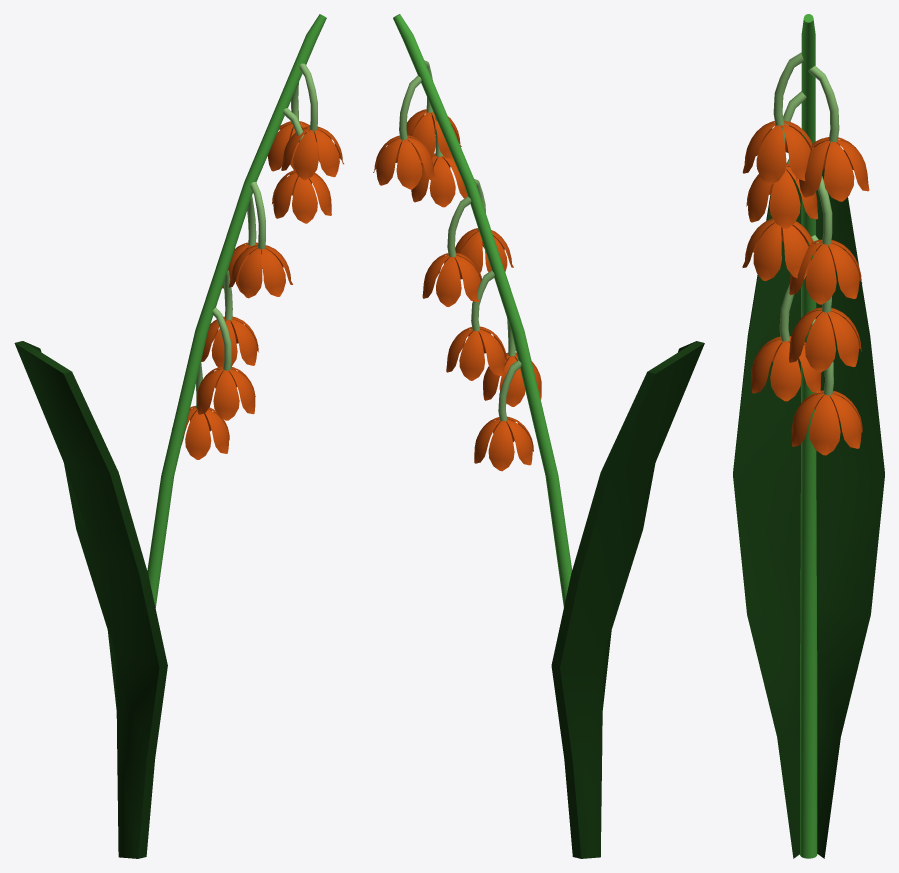
File: lilyofthevalleyv2.fbx
3 renders of one model, left to right at view 1: azimuth 30°, elevation 25°; view 2: azimuth 150°, elevation 25°; view 3: azimuth 270°, elevation 25°, orthographic. The views are drawn at different scales.
Parts seen in each view (by area): view 1: lily of the valley; view 2: lily of the valley; view 3: lily of the valley.
Boxes of the visible parts, x1,y1,x2,y2 form: lily of the valley: [14, 14, 343, 858]; lily of the valley: [373, 14, 704, 858]; lily of the valley: [733, 14, 884, 858].
Bounding box in the file's own units: 0.5507 × 1.31 × 0.19.
